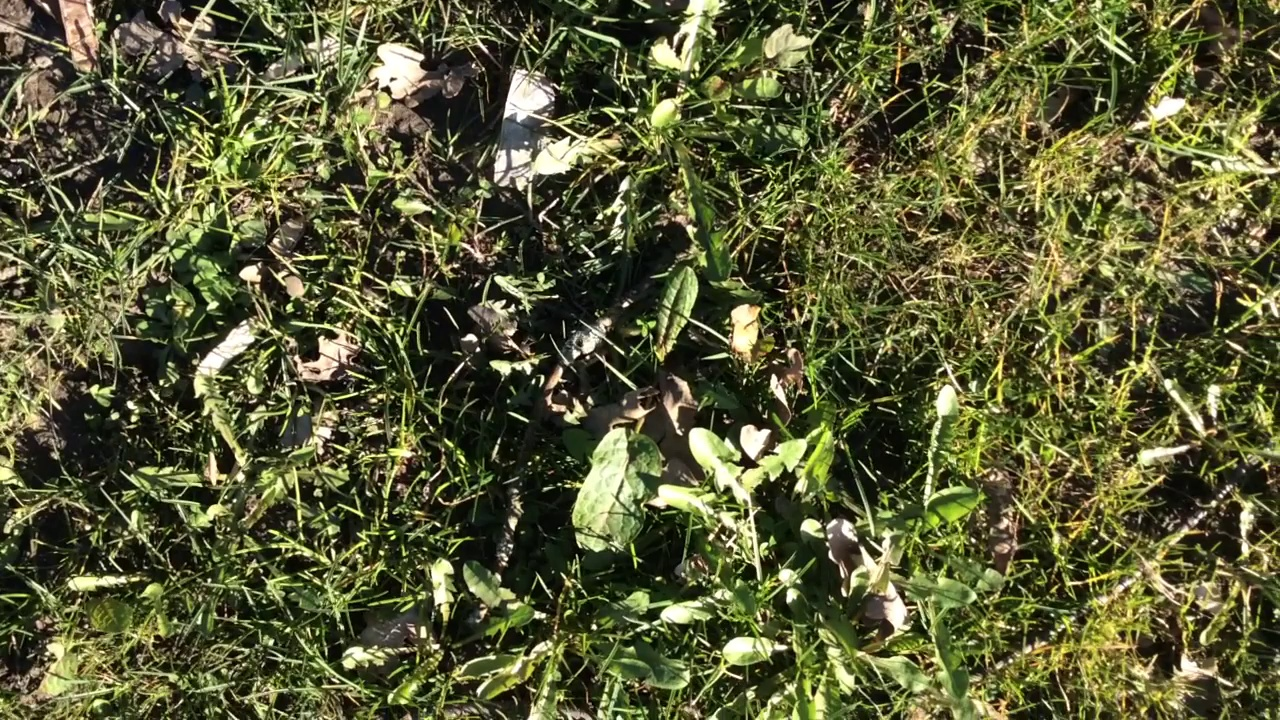rumex: (573, 426, 661, 570), (655, 265, 701, 359)
